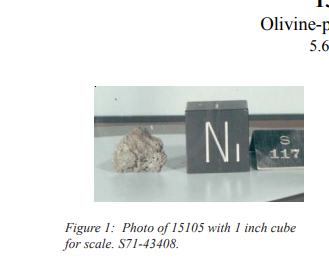Basalt: (106, 117, 179, 179)
